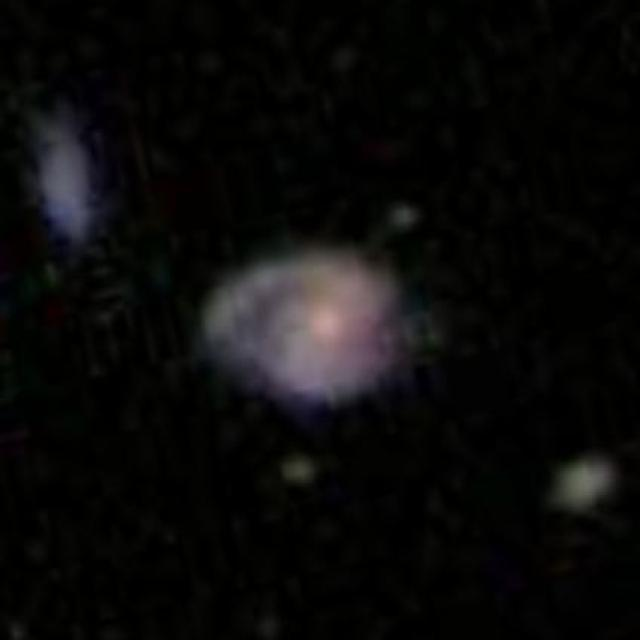galaxy: (185, 237, 448, 423), (12, 91, 122, 267), (546, 454, 617, 517), (275, 452, 324, 489), (387, 204, 420, 231)
